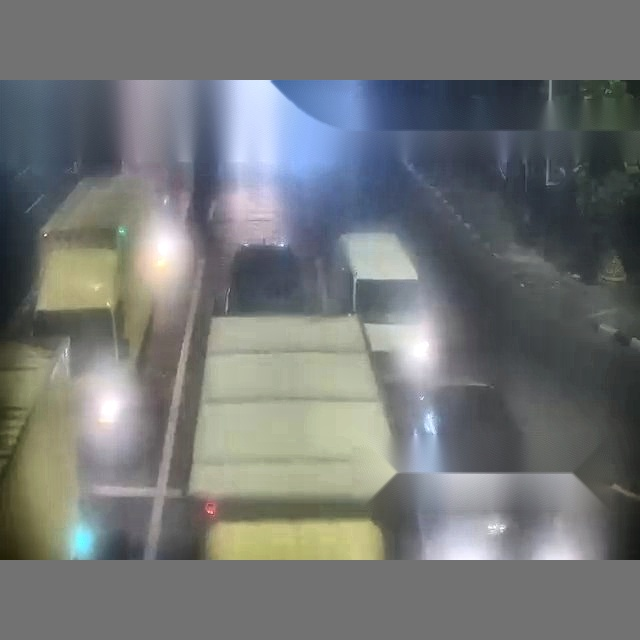Mobil: (340, 233, 432, 382)
Truk: (188, 301, 395, 559), (0, 337, 98, 558)
